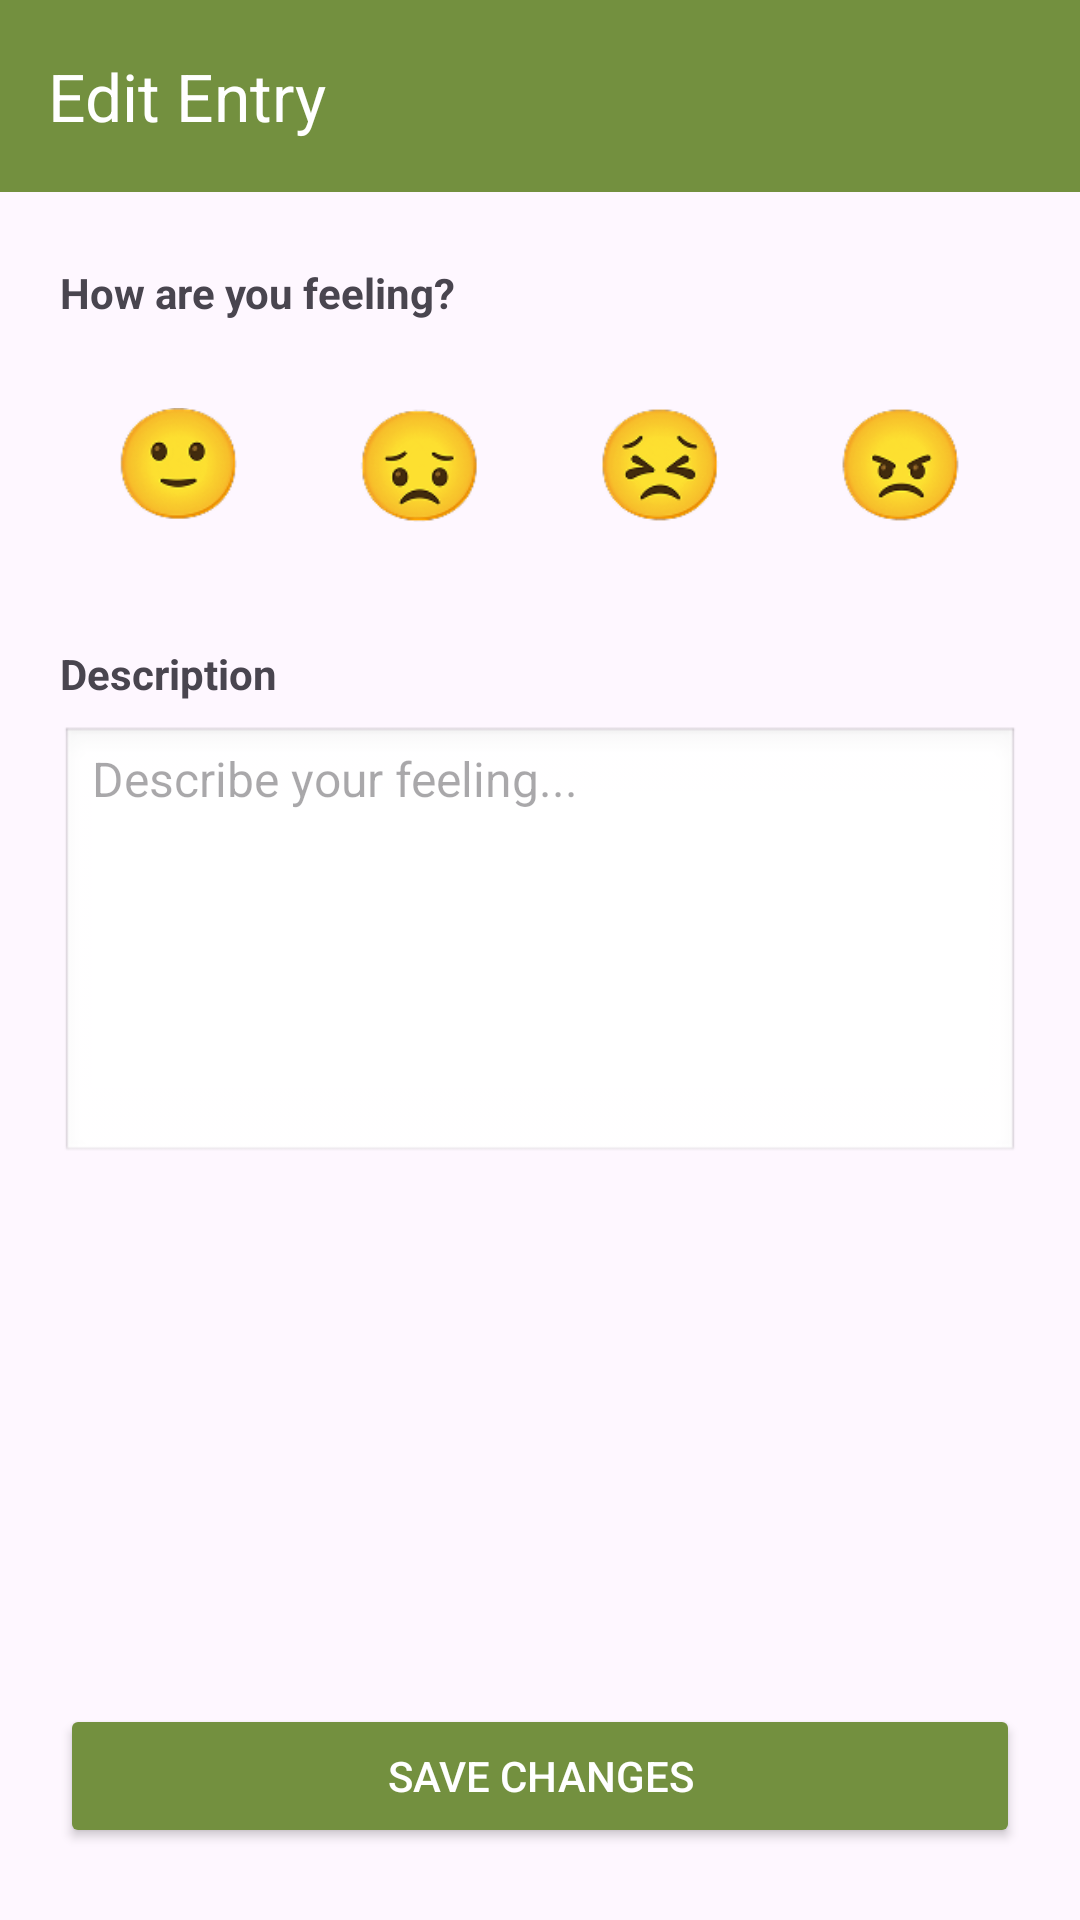

Icon click points for this 1080w x 1920h phone screenshot, format point (x, y):
Angry emoji: point (900, 465)
Happy emoji: point (178, 463)
Pressured emoji: point (659, 465)
Sad emoji: point (419, 465)
